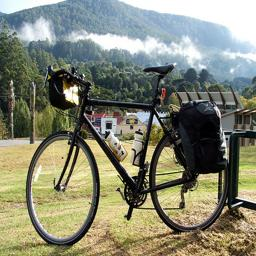bicycle: (128, 100, 256, 256)
bottle: (203, 189, 249, 239), (240, 191, 256, 244)
